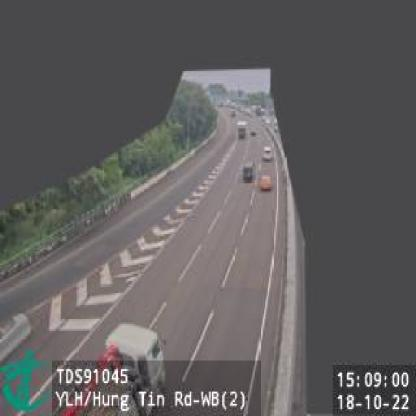Car: (242, 160, 255, 181), (257, 174, 272, 192), (261, 144, 272, 160)
Truck: (49, 324, 169, 416), (238, 121, 247, 139)
